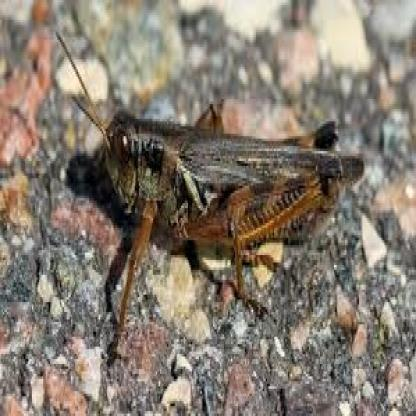grasshopper: (52, 30, 357, 362)
